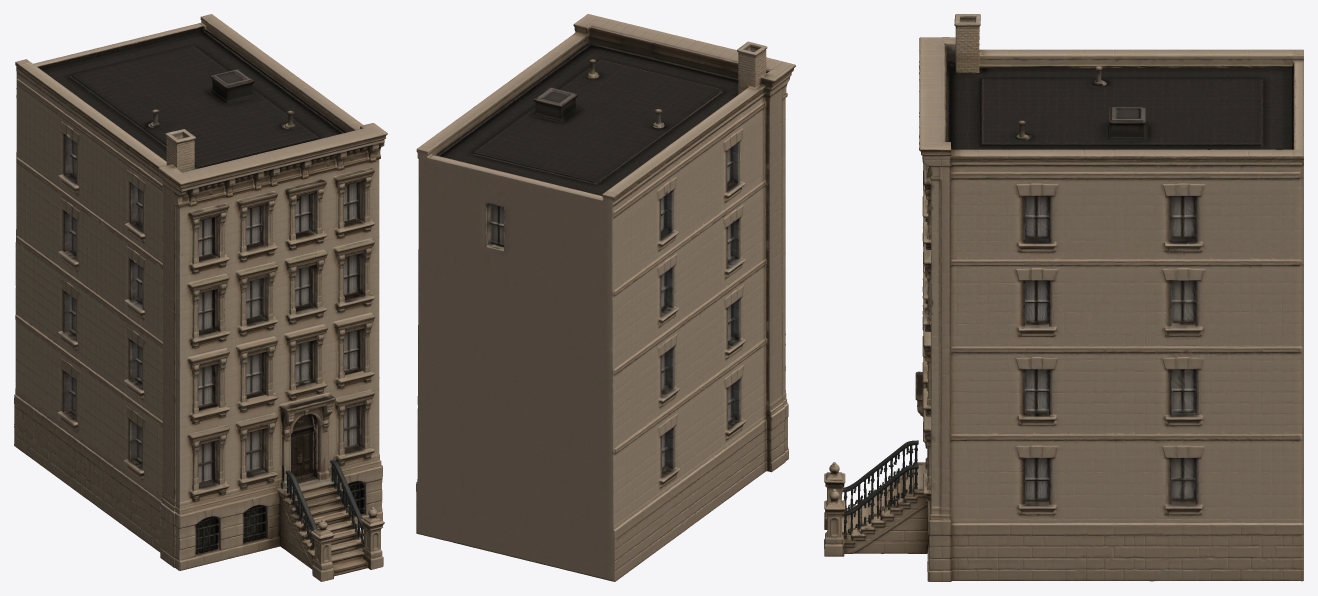
File: tripo_convert_1ac370be-d12f-4034-ab34-1ac2ffa914a6.fbx
3 renders of one model, left to right at view 1: azimuth 30°, elevation 25°; view 2: azimuth 150°, elevation 25°; view 3: azimuth 270°, elevation 25°, orthographic. The views are drawn at different scales.
Parts seen in each view (by area): view 1: tripo_node_1ac370be; view 2: tripo_node_1ac370be; view 3: tripo_node_1ac370be.
Boxes of the visible parts, box(x1,y1,x2,y2) form: tripo_node_1ac370be: box(14, 14, 387, 581); tripo_node_1ac370be: box(416, 14, 795, 581); tripo_node_1ac370be: box(824, 14, 1303, 581).
Bounding box in the file's own units: 0.5116 × 0.9785 × 0.9185.
1 material, 1 textured.
